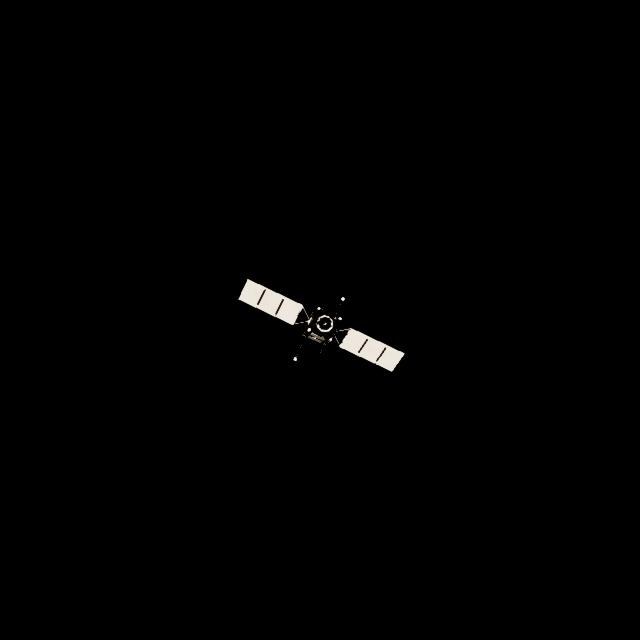medium_debris: (240, 280, 407, 376)
